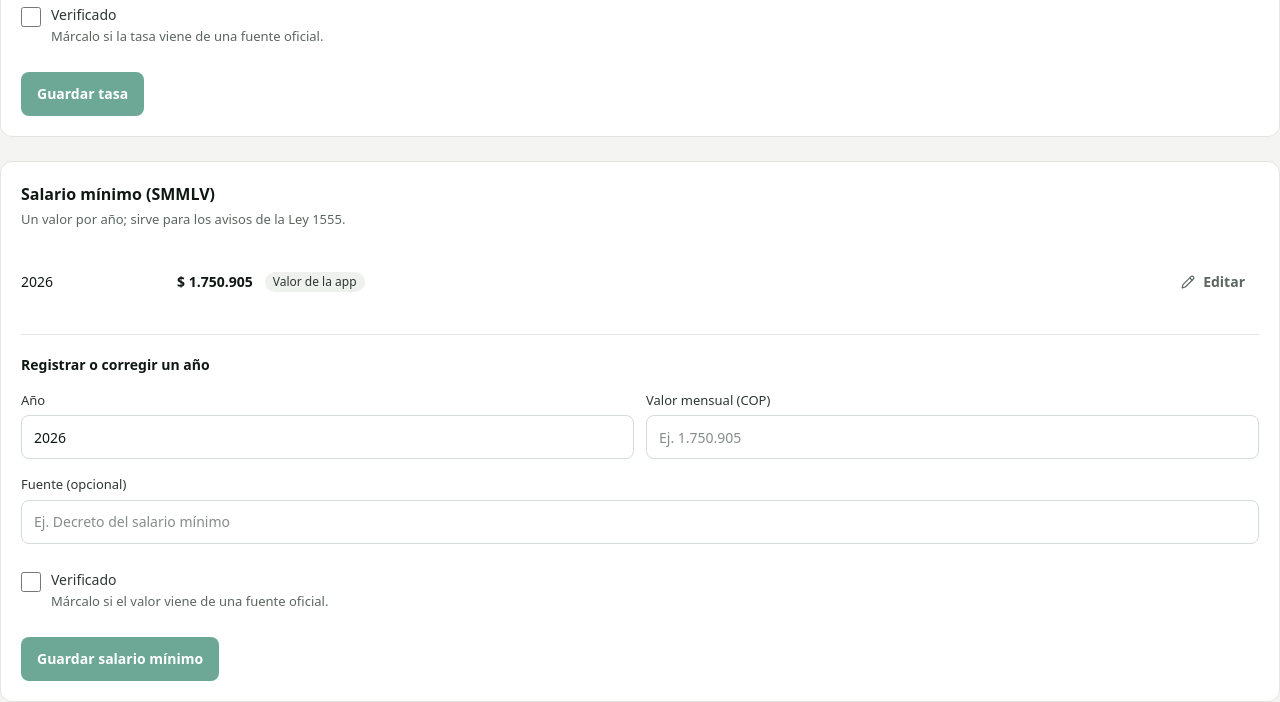
LegalRatesPanel SMMLV form › disables save for year 2027 and value 50.000 with an inline message
(page scrolled)
Replace the text in the field labelled "Año" with "2027" at [328, 437], box [21,415,634,459]
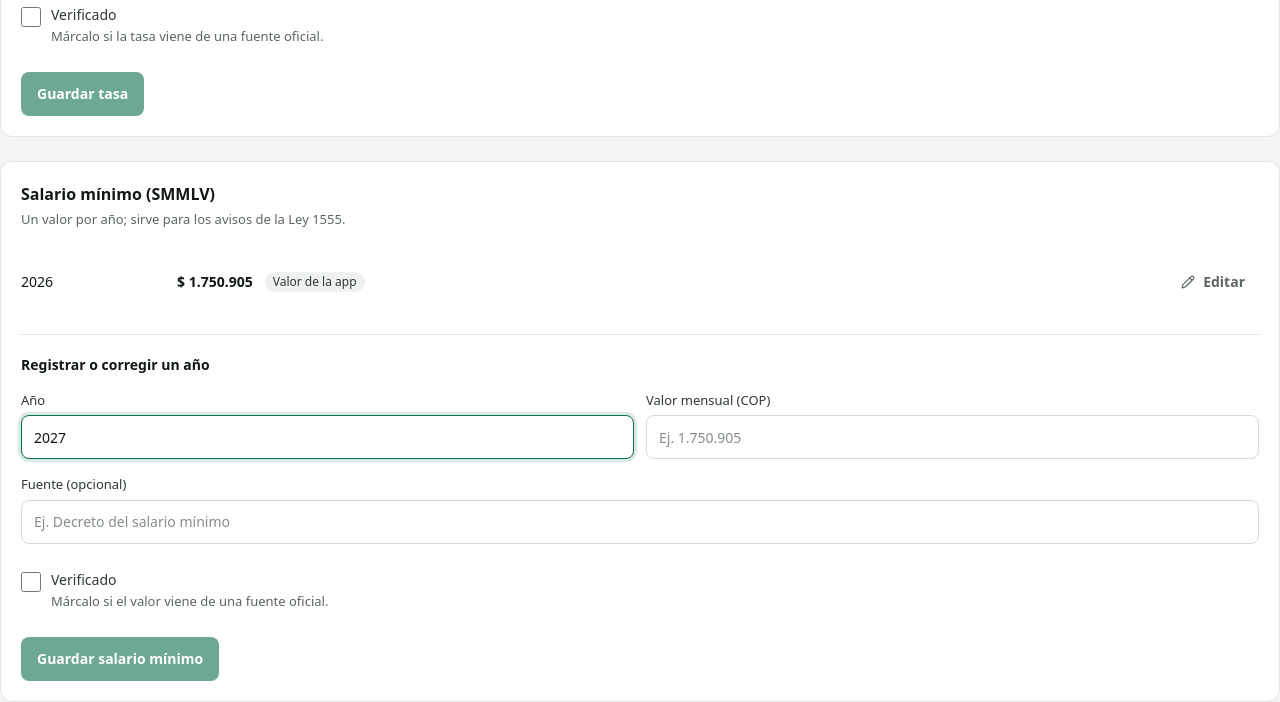
Type "50.000" into the field labelled "Valor mensual (COP)" at [952, 437], box [646,415,1259,459]
(page scrolled)
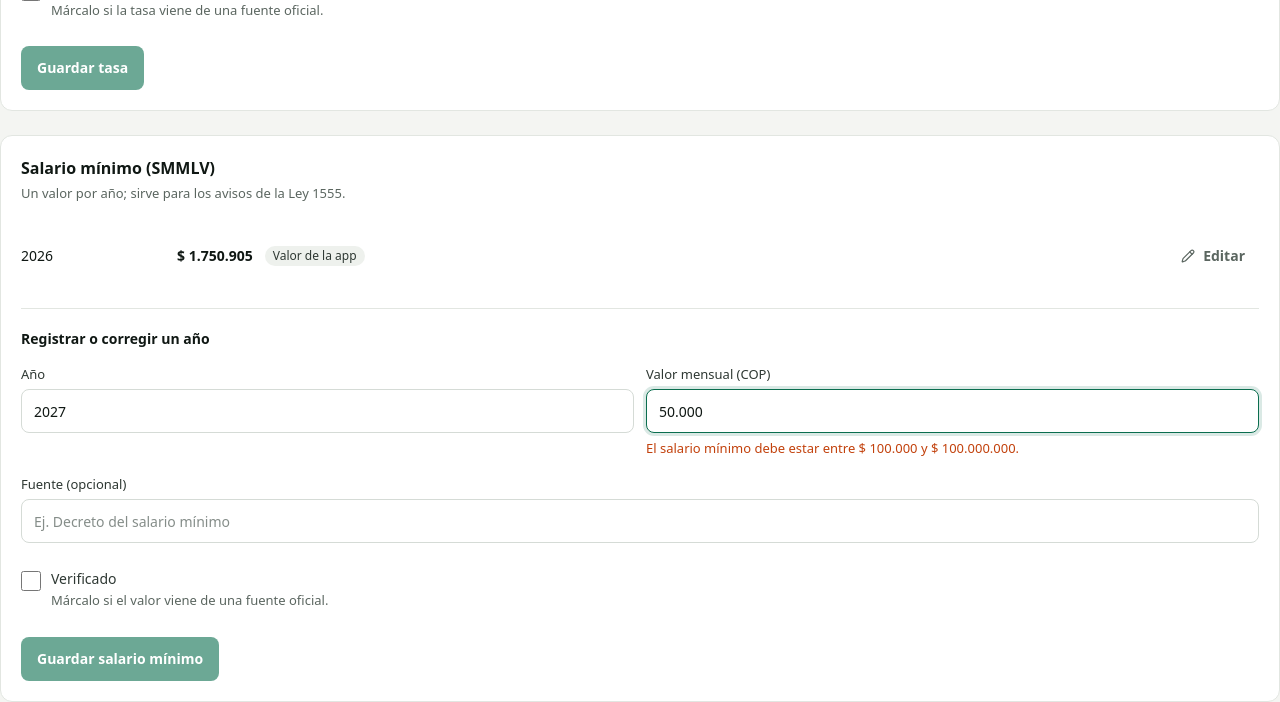
Expected: the button "Guardar salario mínimo" is disabled, [21,637,219,681]
Expected: the text "El salario mínimo debe estar entre $ 100.000 y $ 100.000.000." is shown, [646,439,1019,457]
